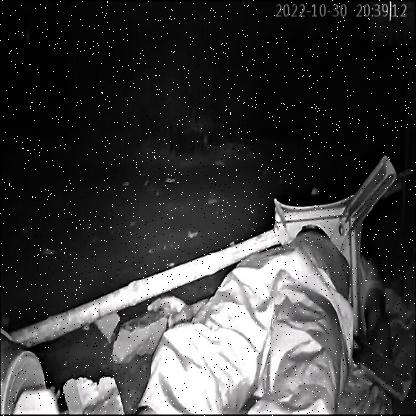hand: (358, 297, 401, 416), (147, 284, 208, 328)
